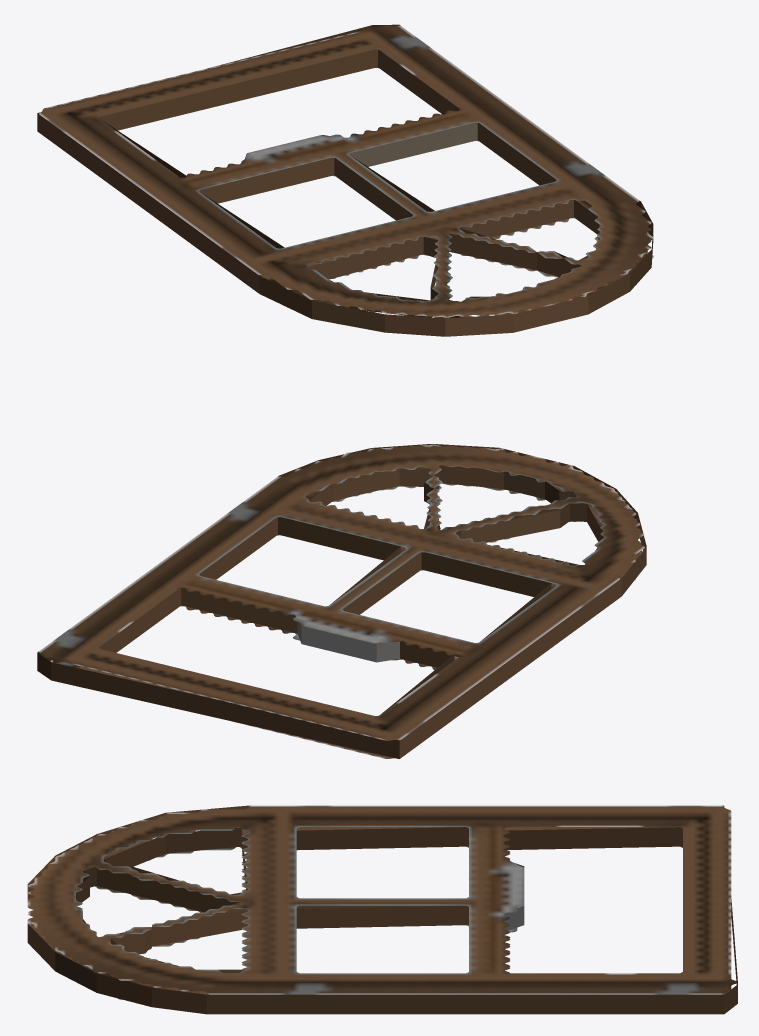
The model's file is pz_native_fixtures_windows_wood_51_frame.obj.
The picture shows the model from 3 angles, top to bottom: view 1: azimuth 30°, elevation 25°; view 2: azimuth 150°, elevation 25°; view 3: azimuth 270°, elevation 25°; orthographic projection. The views are drawn at different scales.
Visible parts, largest first — view 1: pz_native_fixtures_windows_wood_51_frame; view 2: pz_native_fixtures_windows_wood_51_frame; view 3: pz_native_fixtures_windows_wood_51_frame.
Boxes of the visible parts, left/top/right/bottom form: pz_native_fixtures_windows_wood_51_frame: left=37, top=24, right=653, bottom=336; pz_native_fixtures_windows_wood_51_frame: left=37, top=444, right=646, bottom=758; pz_native_fixtures_windows_wood_51_frame: left=27, top=805, right=737, bottom=1014.
Size of the model in its own units: 0.8906 by 0.04 by 1.35.
1 material, 1 textured.
